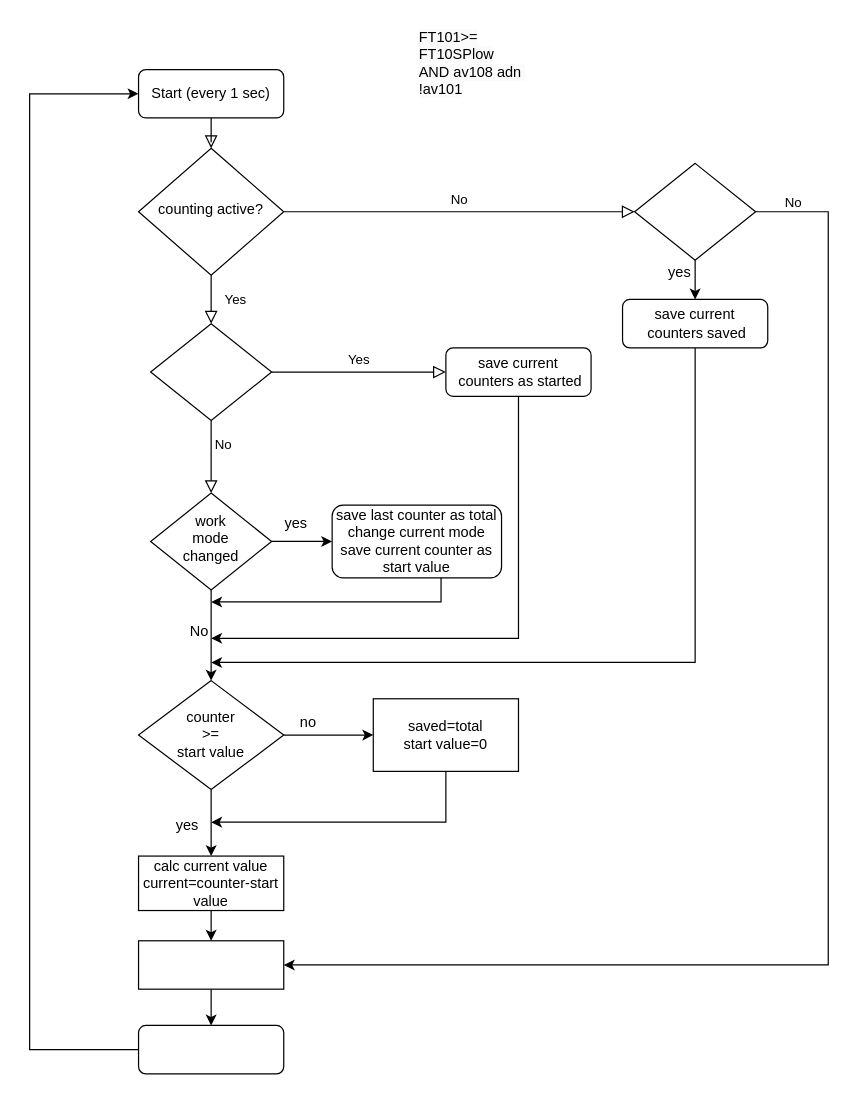
This 859x1095 diagram has some shape labels left out. The shapes that lost their labels are listed below. From the top down, each one's centre as x and y in pixels, then its label:
At pixel 694 211: "was active last cycle?".
At pixel 210 371: "flow was OFF".
At pixel 210 964: "Totla=curent+saved".
At pixel 210 1049: "End calculation".
